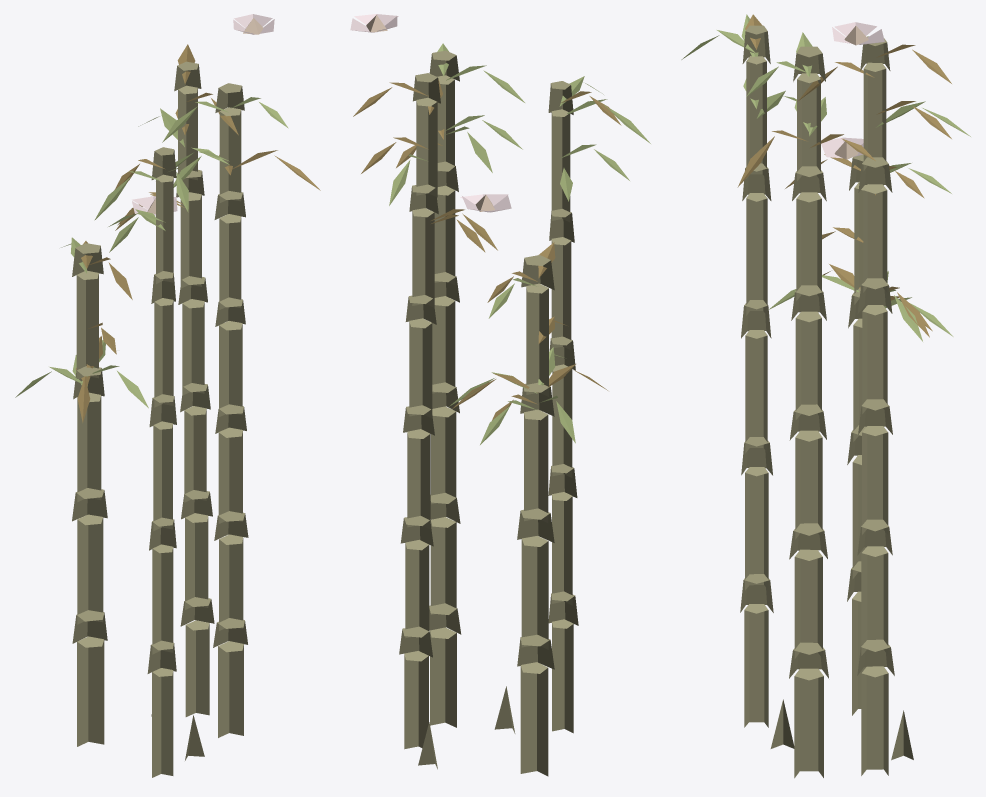
File: hua.zhu__autumn.glb
3 views of the same model, side by side, from view 1: azimuth 30°, elevation 25°; view 2: azimuth 150°, elevation 25°; view 3: azimuth 270°, elevation 25° (orthographic). The views are drawn at different scales.
Parts seen in each view (by area): view 1: hua.zhu__autumn; view 2: hua.zhu__autumn; view 3: hua.zhu__autumn.
Part boxes in pixels (x1,y1,x2,y2): hua.zhu__autumn: (15, 14, 320, 777); hua.zhu__autumn: (350, 14, 650, 776); hua.zhu__autumn: (681, 14, 970, 778).
Size of the model in its own units: 2.07 by 5.8 by 1.98.
